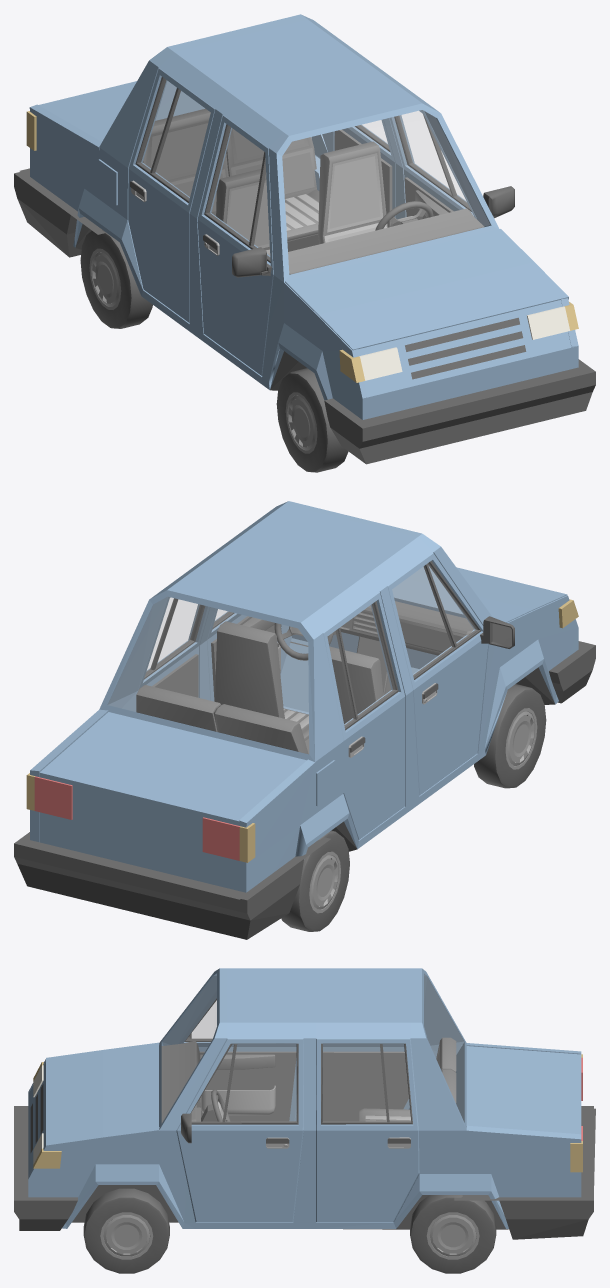
Rendered from car.glb.
3 renders of one model, top to bottom at view 1: azimuth 30°, elevation 25°; view 2: azimuth 150°, elevation 25°; view 3: azimuth 270°, elevation 25°, orthographic. The views are drawn at different scales.
Visible parts, largest first — view 1: Chassis_Chassis_0, Windows_Windows_0, Chassis_Chassis_0.001, Chassis_Bumpers_0, Interior_InteriorPanel_0, FR_Door_Chassis_0, RR_Door_Chassis_0, Interior_Handler_0, RR_Door_Windows_0, FR_Door_Windows_0, Chassis_Chassis_0.002, FR_Wheel_Tire_0 (+14 smaller); view 2: Chassis_Chassis_0, Windows_Windows_0, Chassis_Bumpers_0, Chassis_Chassis_0.002, Interior_InteriorPanel_0, FR_Door_Chassis_0, RR_Door_Chassis_0, FR_Door_Windows_0, RR_Door_Windows_0, Chassis_Chassis_0.001, FR_Wheel_Tire_0, RR_Wheel_Tire_0 (+14 smaller); view 3: Chassis_Chassis_0, FL_Door_Chassis_0, RL_Door_Chassis_0, Chassis_Chassis_0.001, Chassis_Bumpers_0, Chassis_Chassis_0.002, FL_Door_Windows_0, Windows_Windows_0, RL_Door_Windows_0, RR_Door_InteriorPanel_0, FL_Wheel_Tire_0, FR_Door_InteriorPanel_0 (+11 smaller).
Boxes of the visible parts, left/top/right/bottom form: Chassis_Chassis_0: left=30, top=14, right=578, bottom=419; Windows_Windows_0: left=156, top=82, right=489, bottom=273; Chassis_Chassis_0.001: left=285, top=229, right=568, bottom=350; Chassis_Bumpers_0: left=14, top=168, right=595, bottom=464; Interior_InteriorPanel_0: left=142, top=108, right=484, bottom=274; FR_Door_Chassis_0: left=197, top=115, right=273, bottom=375; RR_Door_Chassis_0: left=128, top=68, right=215, bottom=322; Interior_Handler_0: left=226, top=153, right=386, bottom=255; RR_Door_Windows_0: left=139, top=80, right=209, bottom=198; FR_Door_Windows_0: left=208, top=127, right=269, bottom=258; Chassis_Chassis_0.002: left=29, top=81, right=204, bottom=150; FR_Wheel_Tire_0: left=276, top=368, right=348, bottom=472; Chassis_Chassis_0: left=30, top=501, right=578, bottom=892; Windows_Windows_0: left=108, top=568, right=461, bottom=753; Chassis_Bumpers_0: left=14, top=641, right=595, bottom=939; Chassis_Chassis_0.002: left=40, top=712, right=315, bottom=825; Interior_InteriorPanel_0: left=136, top=601, right=473, bottom=754; FR_Door_Chassis_0: left=387, top=553, right=488, bottom=795; RR_Door_Chassis_0: left=323, top=592, right=405, bottom=839; FR_Door_Windows_0: left=392, top=563, right=477, bottom=675; RR_Door_Windows_0: left=328, top=604, right=395, bottom=726; Chassis_Chassis_0.001: left=392, top=566, right=567, bottom=622; FR_Wheel_Tire_0: left=474, top=684, right=546, bottom=788; RR_Wheel_Tire_0: left=281, top=830, right=349, bottom=931; Chassis_Chassis_0: left=28, top=968, right=581, bottom=1228; FL_Door_Chassis_0: left=176, top=1038, right=303, bottom=1222; RL_Door_Chassis_0: left=316, top=1038, right=419, bottom=1222; Chassis_Chassis_0.001: left=46, top=1042, right=159, bottom=1150; Chassis_Bumpers_0: left=14, top=1084, right=595, bottom=1239; Chassis_Chassis_0.002: left=466, top=1043, right=581, bottom=1134; FL_Door_Windows_0: left=192, top=1044, right=296, bottom=1121; Windows_Windows_0: left=163, top=974, right=463, bottom=1119; RL_Door_Windows_0: left=323, top=1044, right=410, bottom=1121; RR_Door_InteriorPanel_0: left=323, top=1051, right=408, bottom=1121; FL_Wheel_Tire_0: left=83, top=1188, right=169, bottom=1273; FR_Door_InteriorPanel_0: left=199, top=1051, right=296, bottom=1121.
Size of the model in its own units: 5.2 by 4.99 by 11.22.
